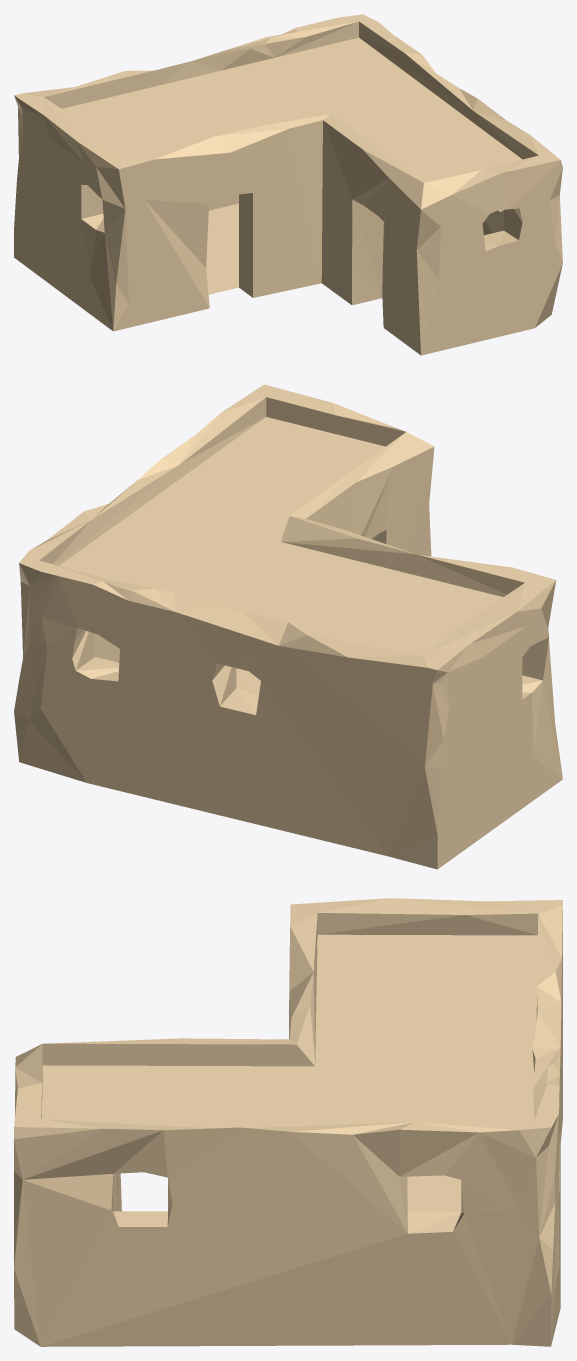
File: House_Block_5_low.fbx
3 views of the same model, one above another, from view 1: azimuth 30°, elevation 25°; view 2: azimuth 150°, elevation 25°; view 3: azimuth 270°, elevation 25° (orthographic). The views are drawn at different scales.
Parts seen in each view (by area): view 1: House_Slave_5_low; view 2: House_Slave_5_low; view 3: House_Slave_5_low.
Part boxes in pixels (box(x1,y1,x2,y2)): House_Slave_5_low: box(14, 14, 562, 355); House_Slave_5_low: box(14, 384, 562, 869); House_Slave_5_low: box(14, 898, 562, 1346).
Size of the model in its own units: 7.03 by 3.13 by 7.05.
